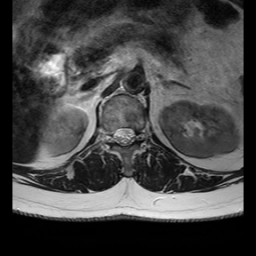CCS_normal: (120, 120, 129, 154)
LFS_stenosis: (136, 120, 144, 147)
LLS_normal: (129, 120, 137, 150)
RFS_normal: (104, 122, 112, 149)
RLS_normal: (112, 120, 120, 150)
